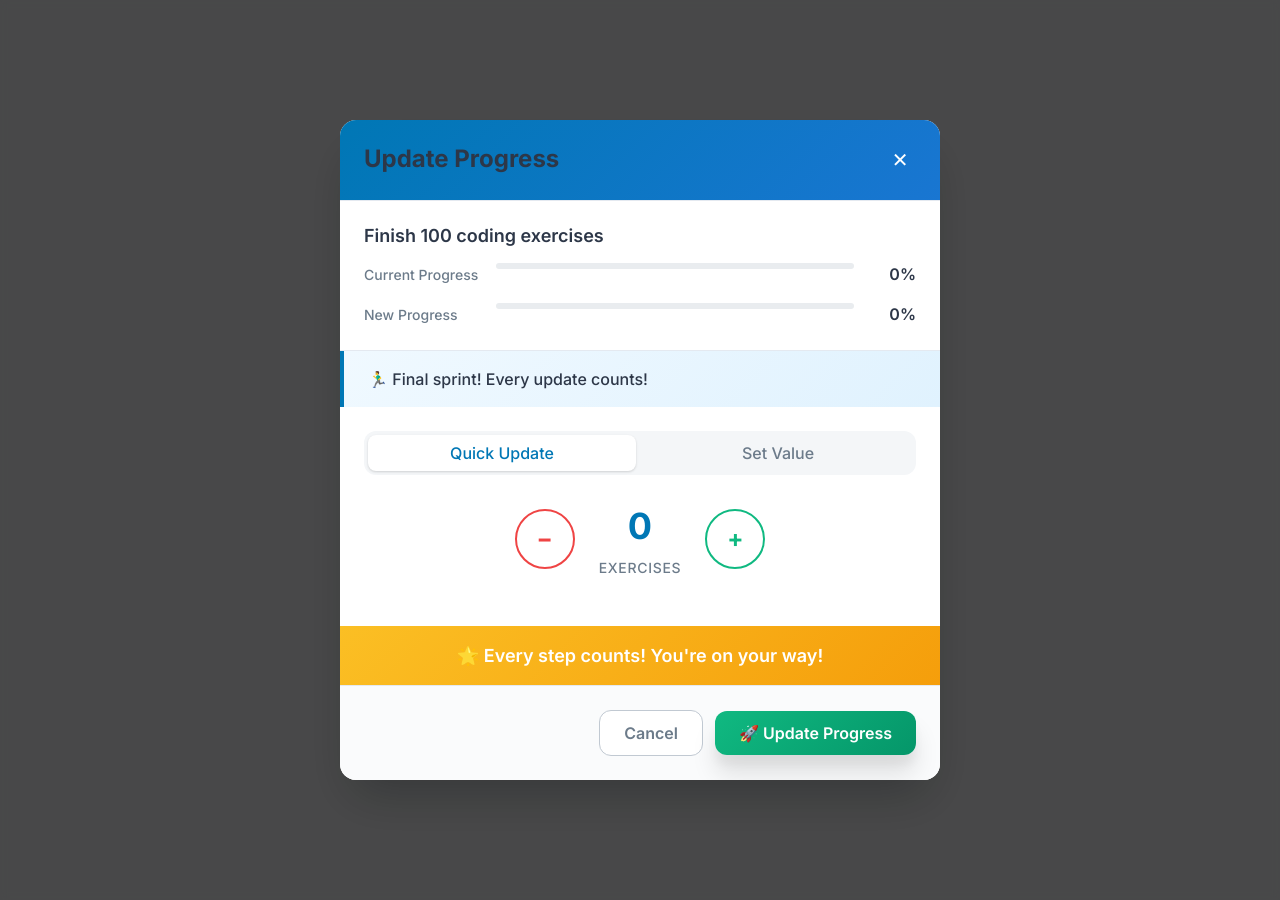
it: ProgressUpdateModal › Gamification Features › celebrates 25% progress milestones
# Set value to trigger 25% milestone
Step 1. Click the button "Set Value" → (778,453), box [644,435,912,471]
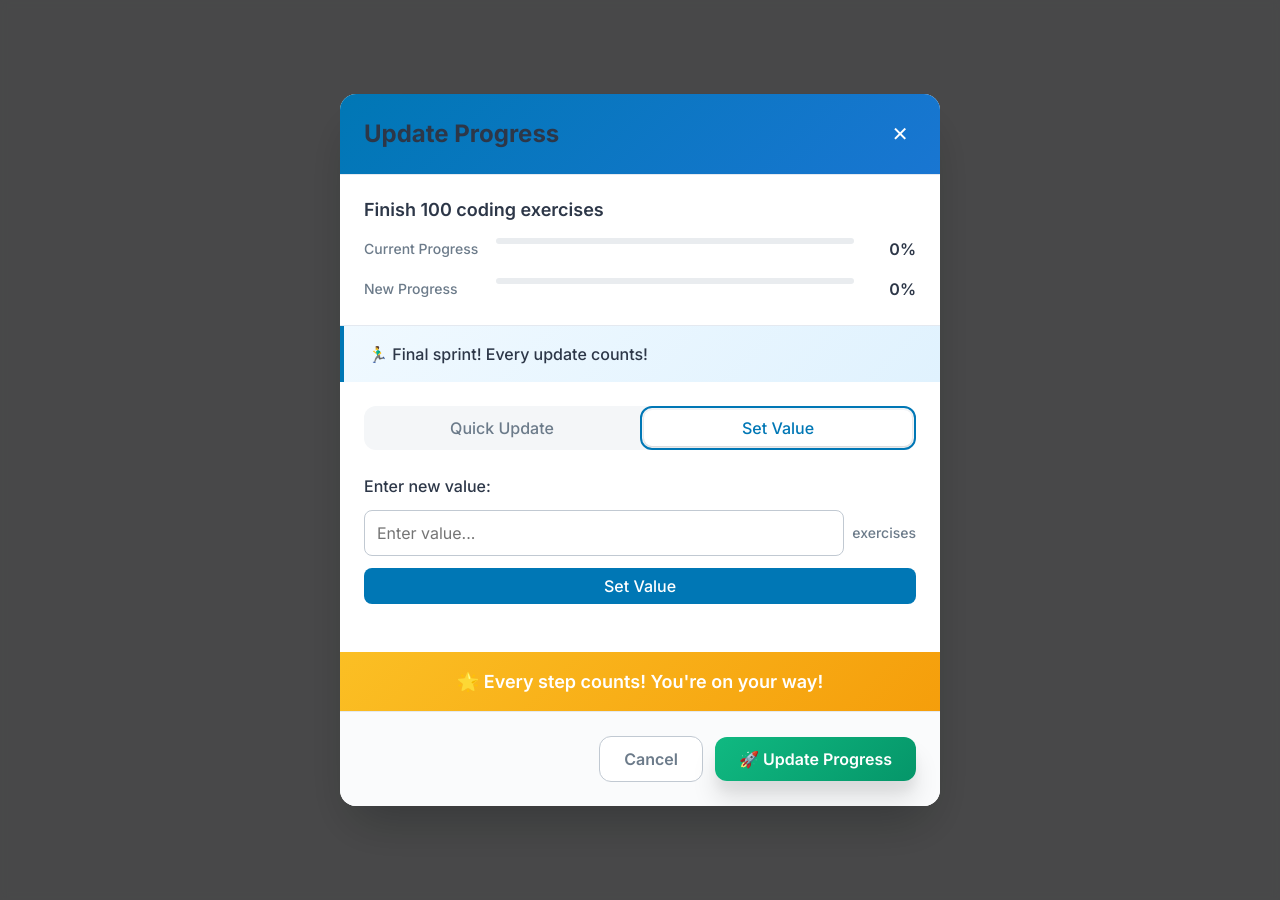
Step 2. Type "25" into the number field with placeholder "Enter value..." → (604,533), box [364,510,844,556]
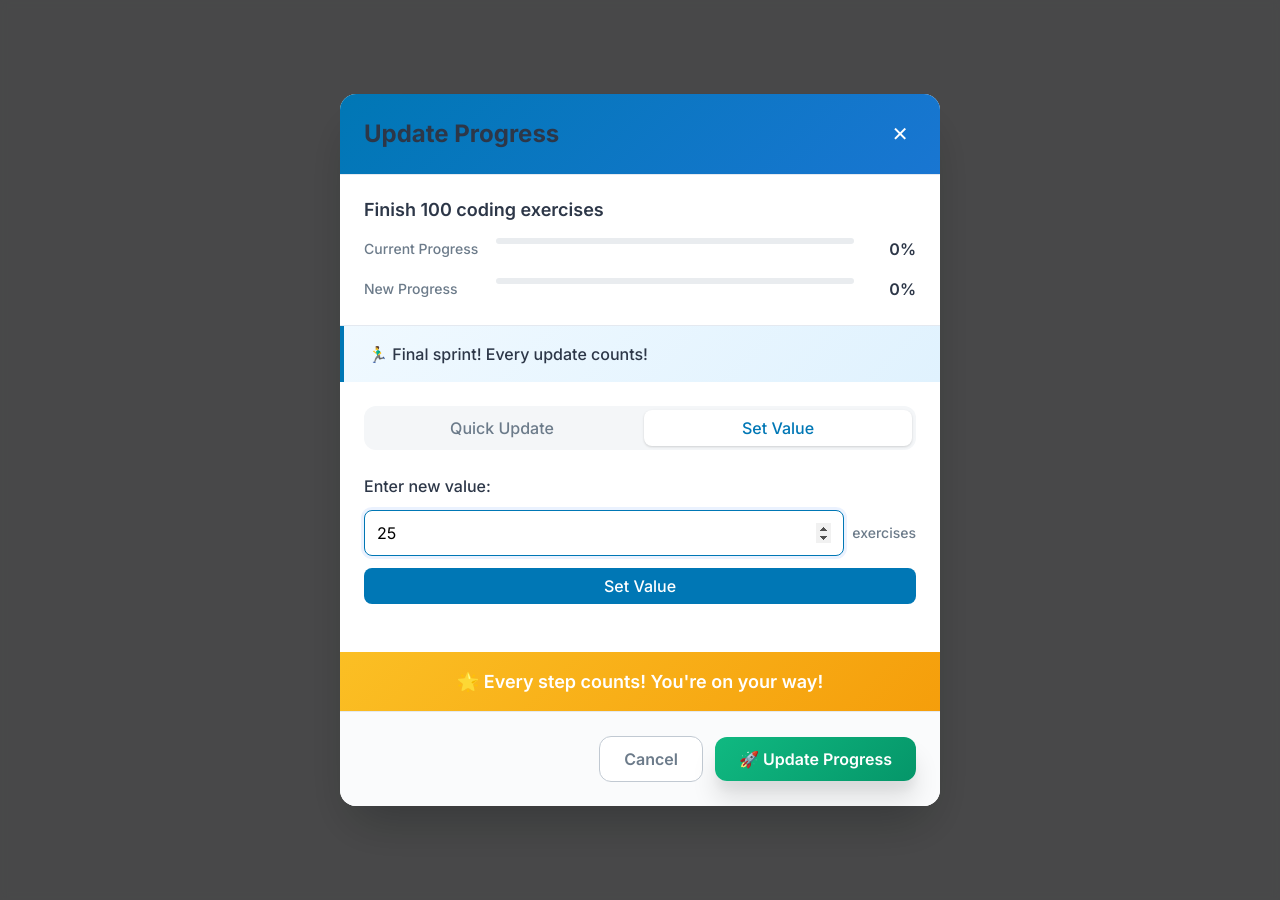
# Use the button from the custom input form
Step 3. Click the button "Set Value" below "Enter new value:" → (640,586), box [364,568,916,604]
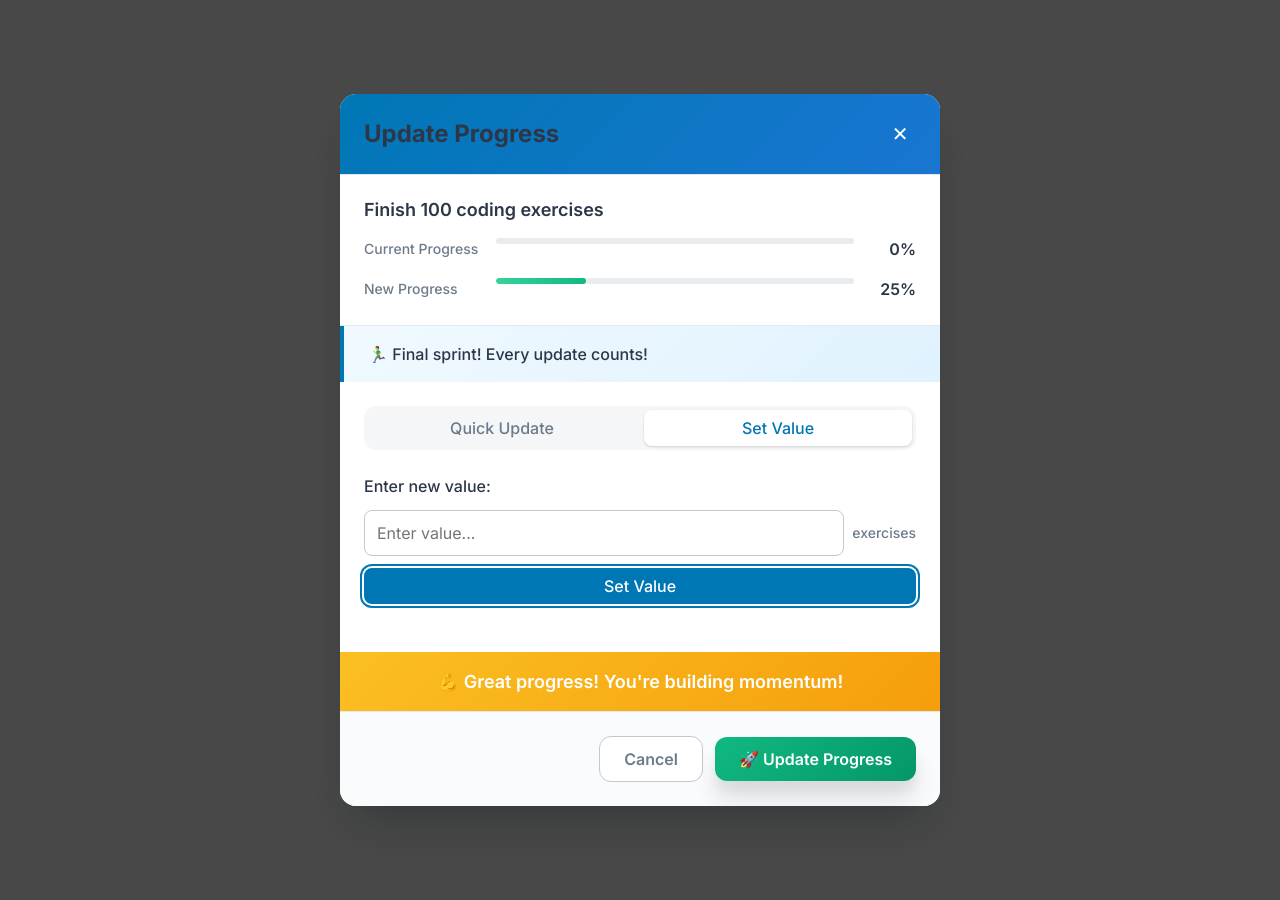
Check: the text "💪 Great progress! You're building momentum!" is shown, box [437,671,843,692]
